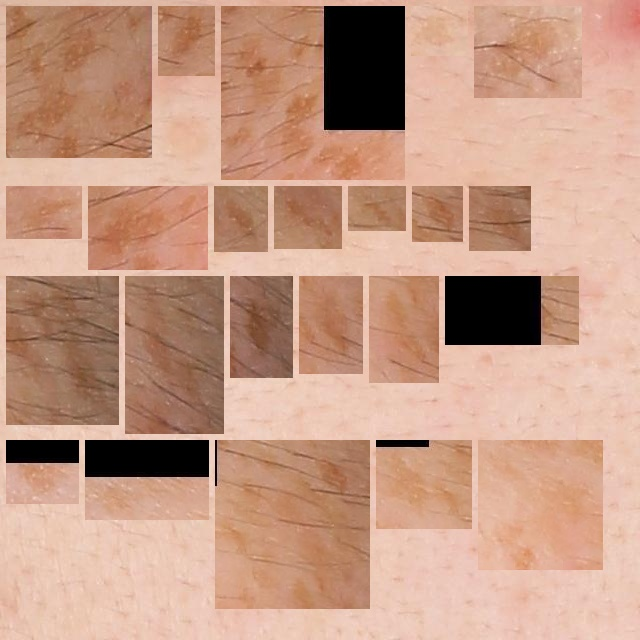melasma: (229, 14, 397, 172), (223, 448, 362, 601), (14, 14, 144, 150), (14, 284, 111, 417), (486, 448, 595, 562), (133, 284, 216, 426), (96, 194, 200, 262), (482, 14, 574, 90), (93, 448, 201, 512), (453, 284, 571, 337), (384, 448, 464, 521), (377, 284, 431, 375), (238, 284, 285, 370), (307, 284, 355, 366), (14, 448, 71, 496), (282, 194, 334, 241), (477, 194, 523, 243), (14, 194, 74, 231), (166, 14, 207, 68), (222, 194, 260, 244), (420, 194, 455, 234), (419, 14, 460, 48), (356, 194, 398, 223)
